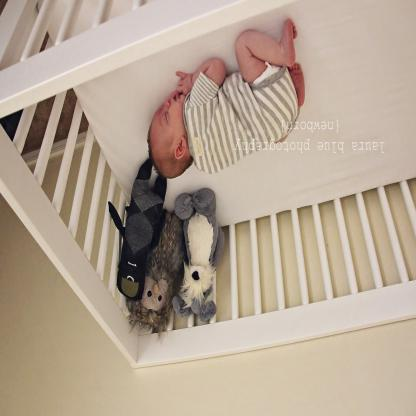baby: (146, 17, 305, 179)
